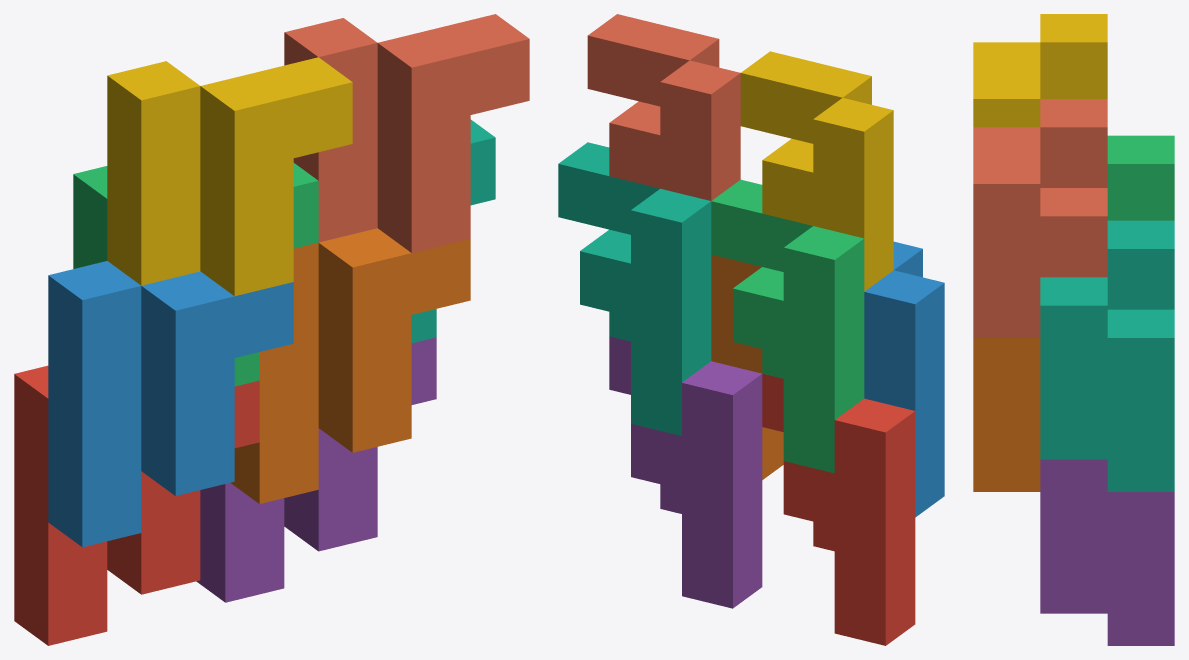
Rendered from tiling.obj.
3 renders of one model, left to right at view 1: azimuth 30°, elevation 25°; view 2: azimuth 150°, elevation 25°; view 3: azimuth 270°, elevation 25°, orthographic. The views are drawn at different scales.
Parts seen in each view (by area): view 1: copy_1_domain_2, copy_1_domain_4, copy_1_domain_8, copy_1_domain_6, copy_1_domain_1, copy_1_domain_5, copy_1_domain_3, copy_1_domain_7; view 2: copy_1_domain_3, copy_1_domain_7, copy_1_domain_1, copy_1_domain_5, copy_1_domain_4, copy_1_domain_8, copy_1_domain_2, copy_1_domain_6; view 3: copy_1_domain_7, copy_1_domain_8, copy_1_domain_5, copy_1_domain_4, copy_1_domain_6, copy_1_domain_3.
Boxes of the visible parts, <box> form: copy_1_domain_2: <box>48,261,293,547</box>; copy_1_domain_4: <box>107,57,352,296</box>; copy_1_domain_8: <box>284,14,529,252</box>; copy_1_domain_6: <box>230,228,470,503</box>; copy_1_domain_1: <box>14,365,259,645</box>; copy_1_domain_5: <box>196,337,436,602</box>; copy_1_domain_3: <box>73,163,318,386</box>; copy_1_domain_7: <box>411,119,495,343</box>; copy_1_domain_3: <box>711,179,864,473</box>; copy_1_domain_7: <box>558,142,711,435</box>; copy_1_domain_1: <box>762,373,915,645</box>; copy_1_domain_5: <box>609,336,762,608</box>; copy_1_domain_4: <box>740,51,893,291</box>; copy_1_domain_8: <box>587,14,740,200</box>; copy_1_domain_2: <box>864,241,944,517</box>; copy_1_domain_6: <box>711,254,783,479</box>; copy_1_domain_7: <box>1040,220,1174,491</box>; copy_1_domain_8: <box>973,99,1107,337</box>; copy_1_domain_5: <box>1040,459,1174,645</box>; copy_1_domain_4: <box>973,14,1107,127</box>; copy_1_domain_6: <box>973,338,1040,491</box>; copy_1_domain_3: <box>1107,135,1174,220</box>.
Bounding box in the file's own units: 7 × 9 × 3.
